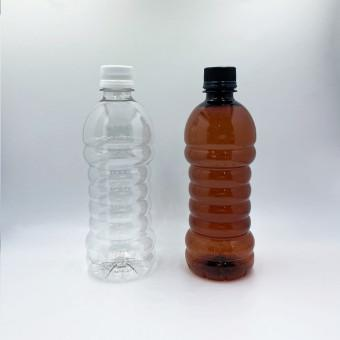bottle: (82, 64, 153, 282), (186, 62, 254, 278)
